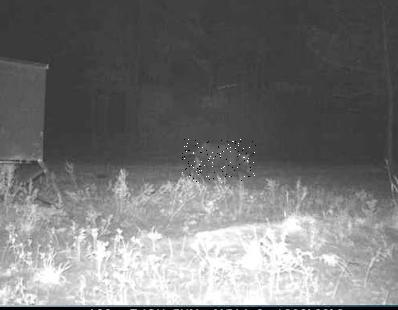Hog: (181, 139, 256, 183)
